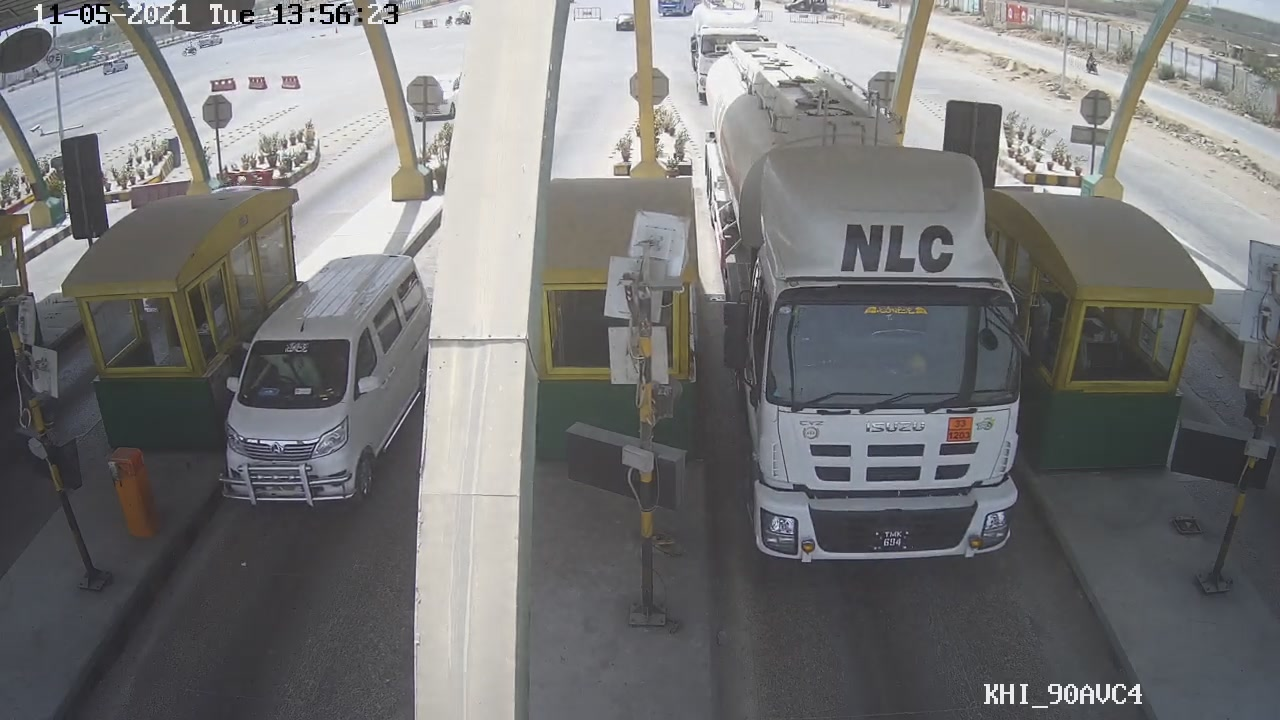F6: (696, 50, 1035, 586)
